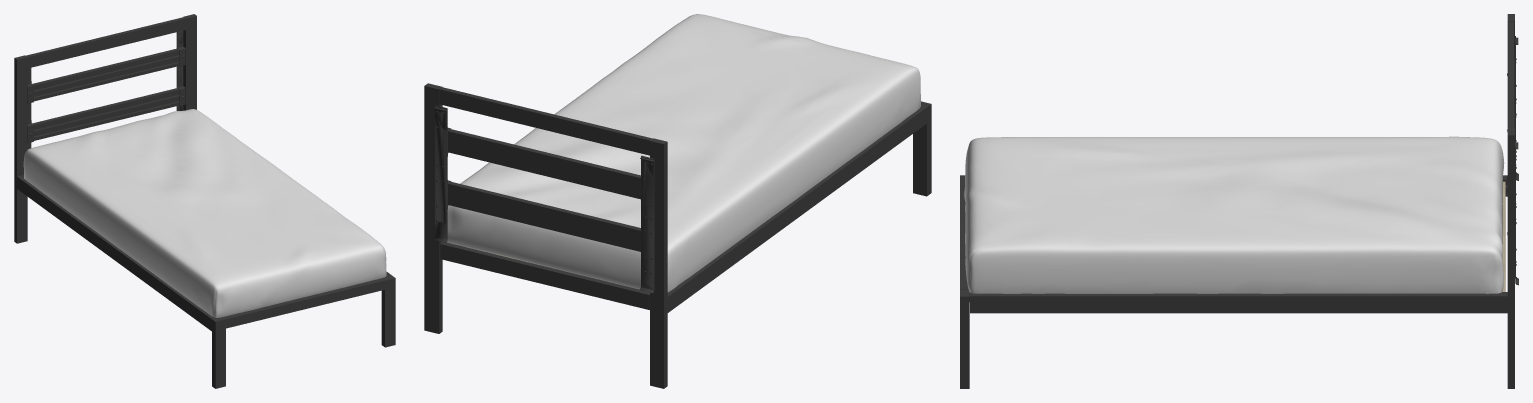
Rendered from B086TFXK75.glb.
3 renders of one model, left to right at view 1: azimuth 30°, elevation 25°; view 2: azimuth 150°, elevation 25°; view 3: azimuth 270°, elevation 25°, orthographic. The views are drawn at different scales.
Visible parts, largest first — view 1: RootNode; view 2: RootNode; view 3: RootNode.
Boxes of the visible parts, x1=… form: RootNode: x1=14, y1=14, x2=395, y2=388; RootNode: x1=424, y1=14, x2=931, y2=388; RootNode: x1=960, y1=14, x2=1518, y2=388.
Bounding box in the file's own units: 0.991 × 0.967 × 1.93.
1 material, 1 textured.
